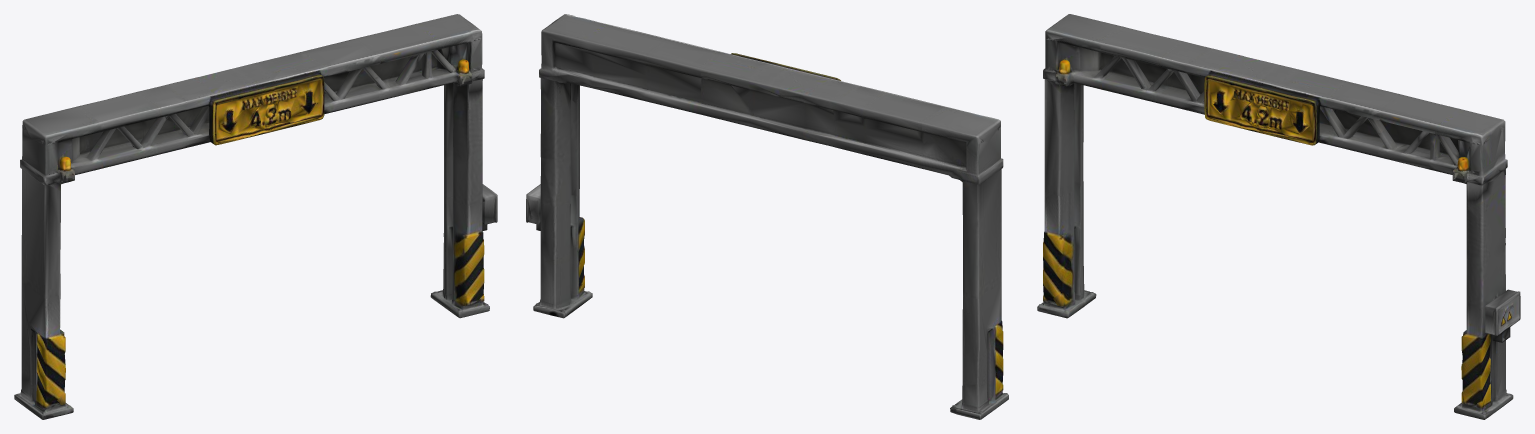
Rendered from veh-d-gantry.glb.
3 renders of one model, left to right at view 1: azimuth 30°, elevation 25°; view 2: azimuth 150°, elevation 25°; view 3: azimuth 330°, elevation 25°, orthographic.
Visible parts, largest first — view 1: tripo_node_85de6d04-8049-401e-b292-cb731597a809; view 2: tripo_node_85de6d04-8049-401e-b292-cb731597a809; view 3: tripo_node_85de6d04-8049-401e-b292-cb731597a809.
Boxes of the visible parts, x1,y1,x2,y2 form: tripo_node_85de6d04-8049-401e-b292-cb731597a809: (14,14,497,419); tripo_node_85de6d04-8049-401e-b292-cb731597a809: (526,14,1008,419); tripo_node_85de6d04-8049-401e-b292-cb731597a809: (1037,14,1520,419).
Bounding box in the file's own units: 0.9811 × 0.5735 × 0.1163.
Materials: 1 (1 with a texture image).
